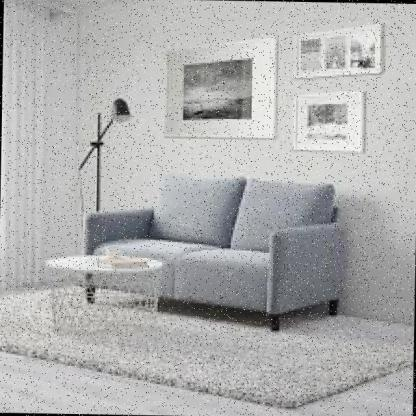Sofa: (64, 161, 358, 335)
